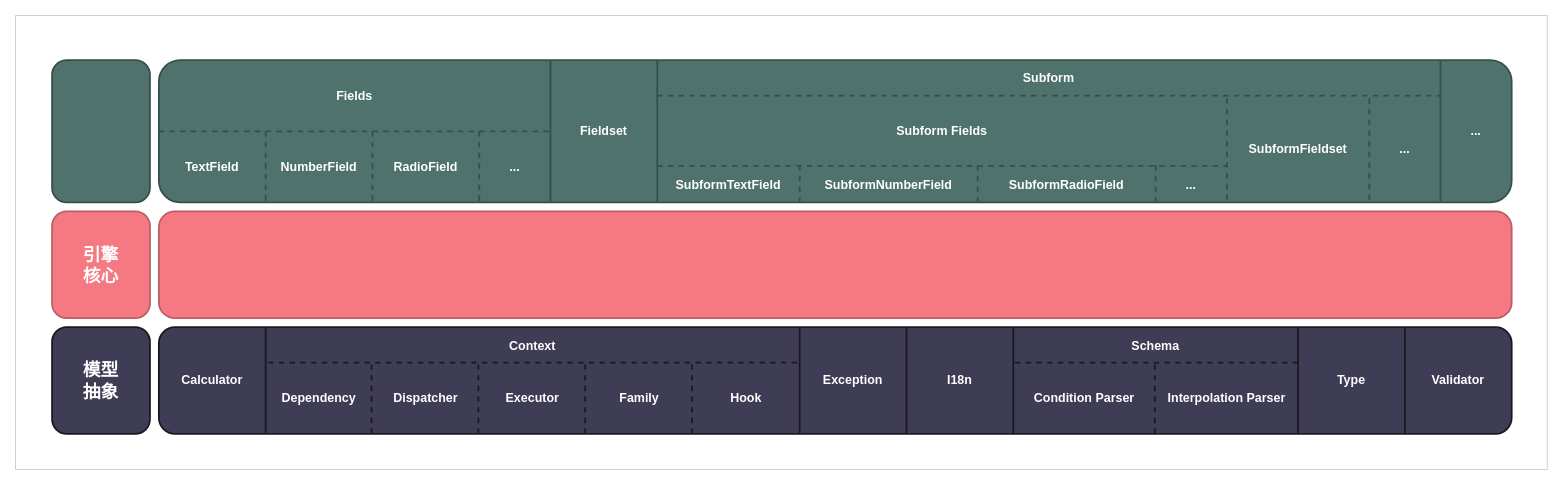
This 1563x485 diagram has some shape labels left out. Each missing label, with the box of its shape:
Reactive: (158, 210, 1512, 319)
内置 表单 引擎: (51, 59, 150, 203)
